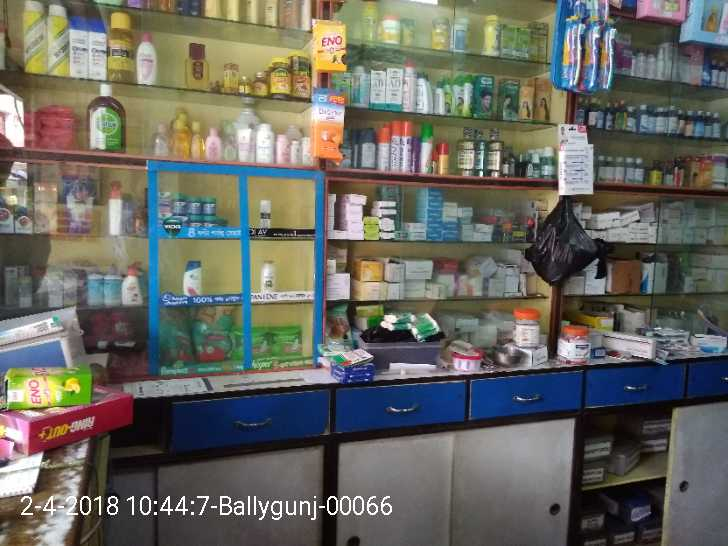oralcare: (560, 1, 619, 100)
vicks: (158, 185, 218, 226)
